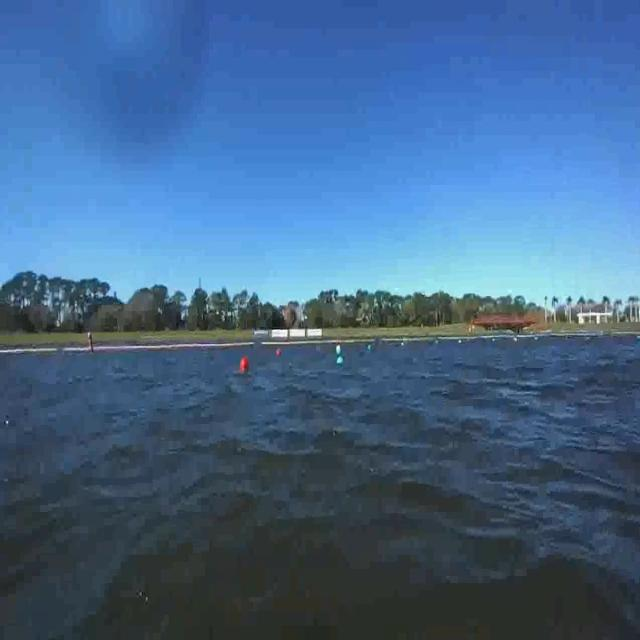green-buoy: (335, 353, 347, 370)
red-buoy: (238, 357, 248, 374)
